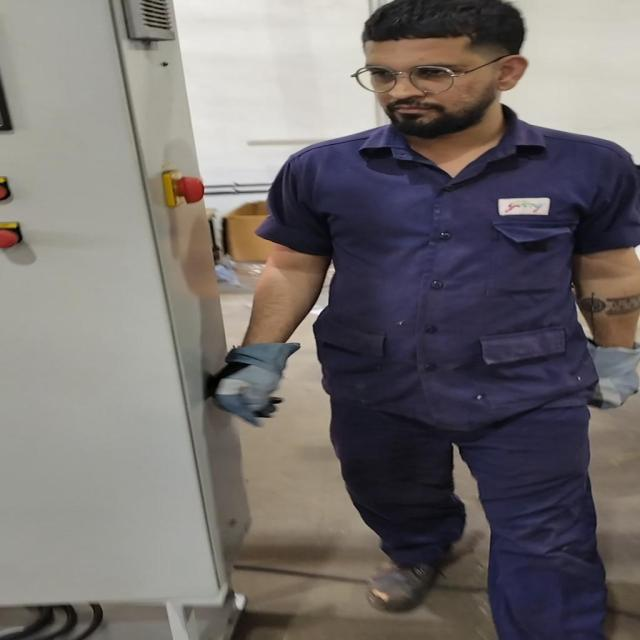Gloves-Detection: (197, 338, 297, 439), (578, 335, 640, 418)
